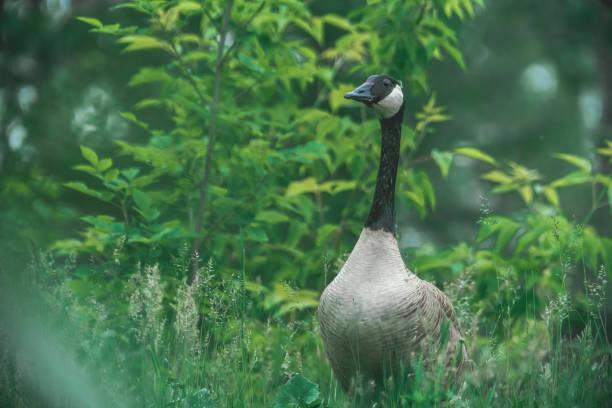Canadian-Goose: (314, 75, 473, 393)
